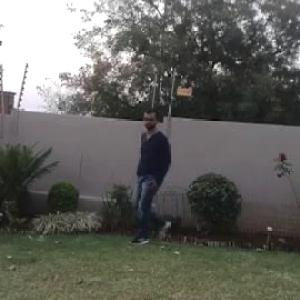follow: (130, 103, 182, 250)
